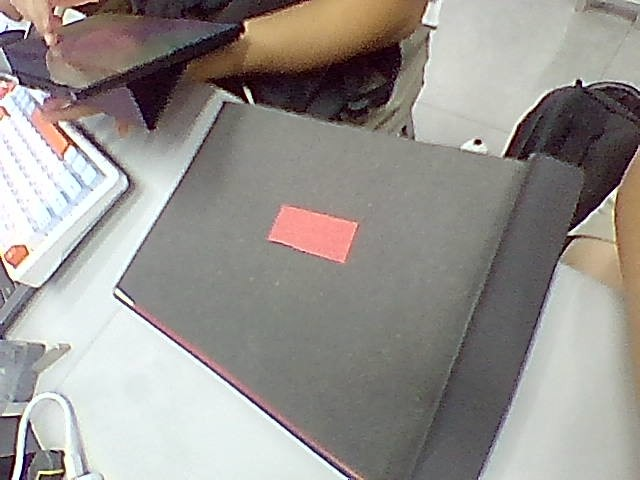card: (267, 205, 358, 263)
